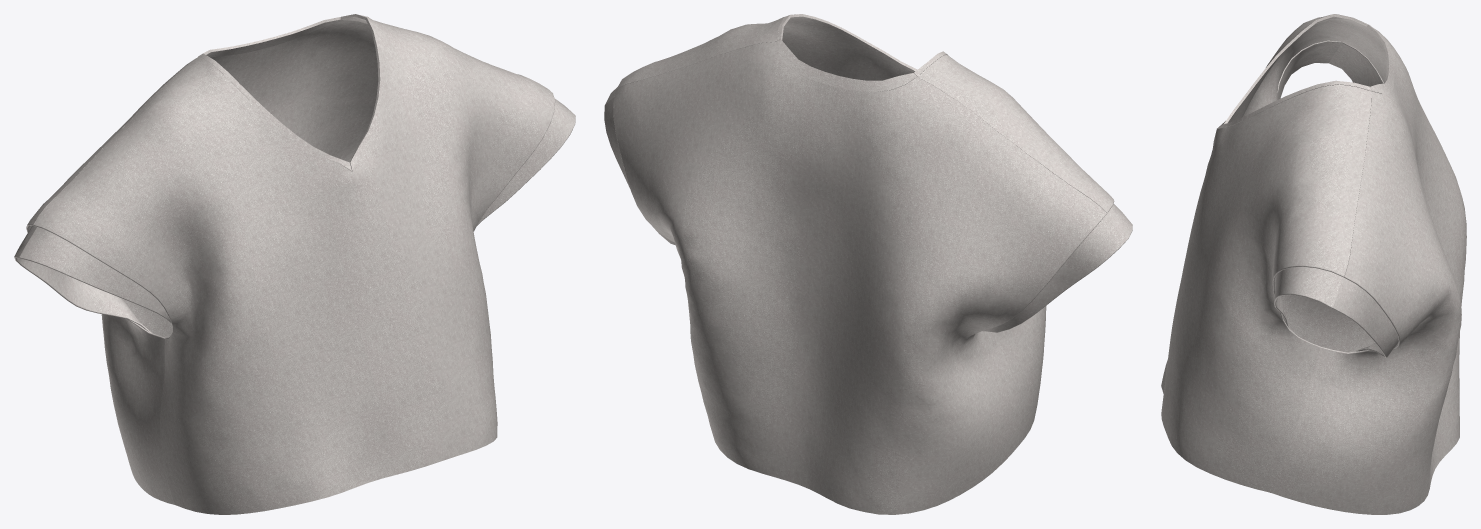
The model's file is Look 8_1.gltf.
The picture shows the model from 3 angles, left to right: view 1: azimuth 30°, elevation 25°; view 2: azimuth 150°, elevation 25°; view 3: azimuth 270°, elevation 25°; orthographic projection. The views are drawn at different scales.
Parts seen in each view (by area): view 1: Cloth, Pattern2D_3805002, Pattern2D_768516, Pattern2D_3805017; view 2: Cloth, Pattern2D_3805002, Pattern2D_768516; view 3: Cloth, Pattern2D_3805017, Pattern2D_768516, Pattern2D_3805002.
Boxes of the visible parts, left/top/right/bottom form: Cloth: left=14, top=17, right=575, bottom=514; Pattern2D_3805002: left=203, top=17, right=343, bottom=57; Pattern2D_768516: left=340, top=14, right=383, bottom=171; Pattern2D_3805017: left=198, top=53, right=351, bottom=171; Cloth: left=604, top=17, right=1132, bottom=514; Pattern2D_3805002: left=776, top=39, right=916, bottom=91; Pattern2D_768516: left=776, top=14, right=917, bottom=72; Cloth: left=1161, top=17, right=1466, bottom=514; Pattern2D_3805017: left=1217, top=14, right=1367, bottom=128; Pattern2D_768516: left=1217, top=80, right=1371, bottom=129; Pattern2D_3805002: left=1367, top=24, right=1394, bottom=93.
Size of the model in its own units: 0.7747 by 0.5943 by 0.3948.
Materials: 2 (2 with a texture image).
